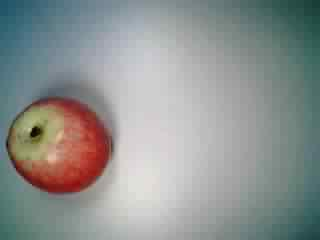apple: (6, 94, 113, 197)
